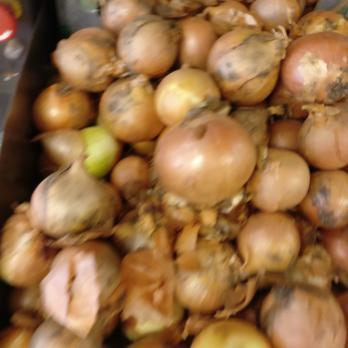Onion: (102, 0, 343, 348), (1, 179, 107, 345), (34, 21, 105, 177), (152, 117, 257, 206)
